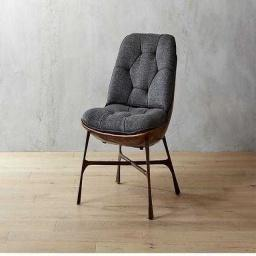Chair: (76, 34, 181, 220)
